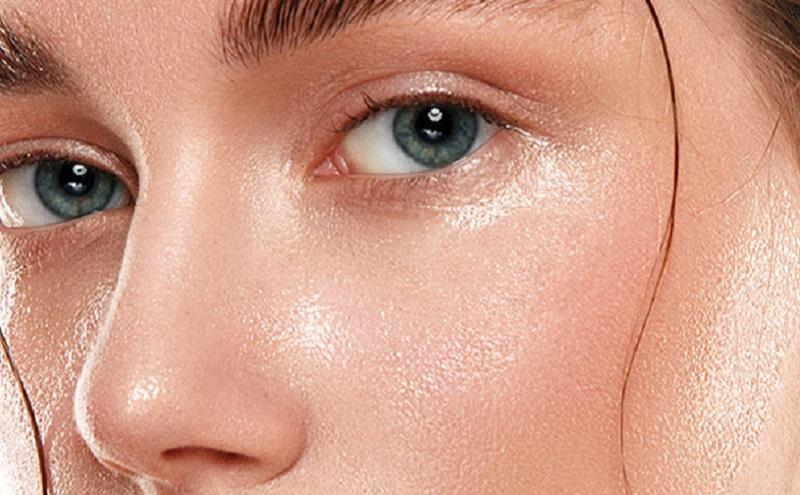Oily-Skin: (704, 266, 779, 448), (99, 362, 203, 450), (156, 126, 251, 212), (526, 136, 614, 207), (281, 329, 388, 377)
